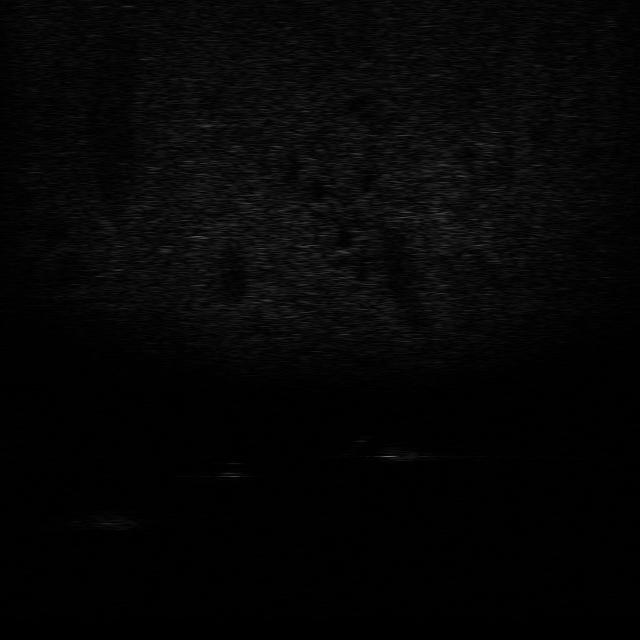ball: (205, 457, 251, 483)
circle cage: (54, 505, 138, 533)
human body: (336, 434, 442, 464)
